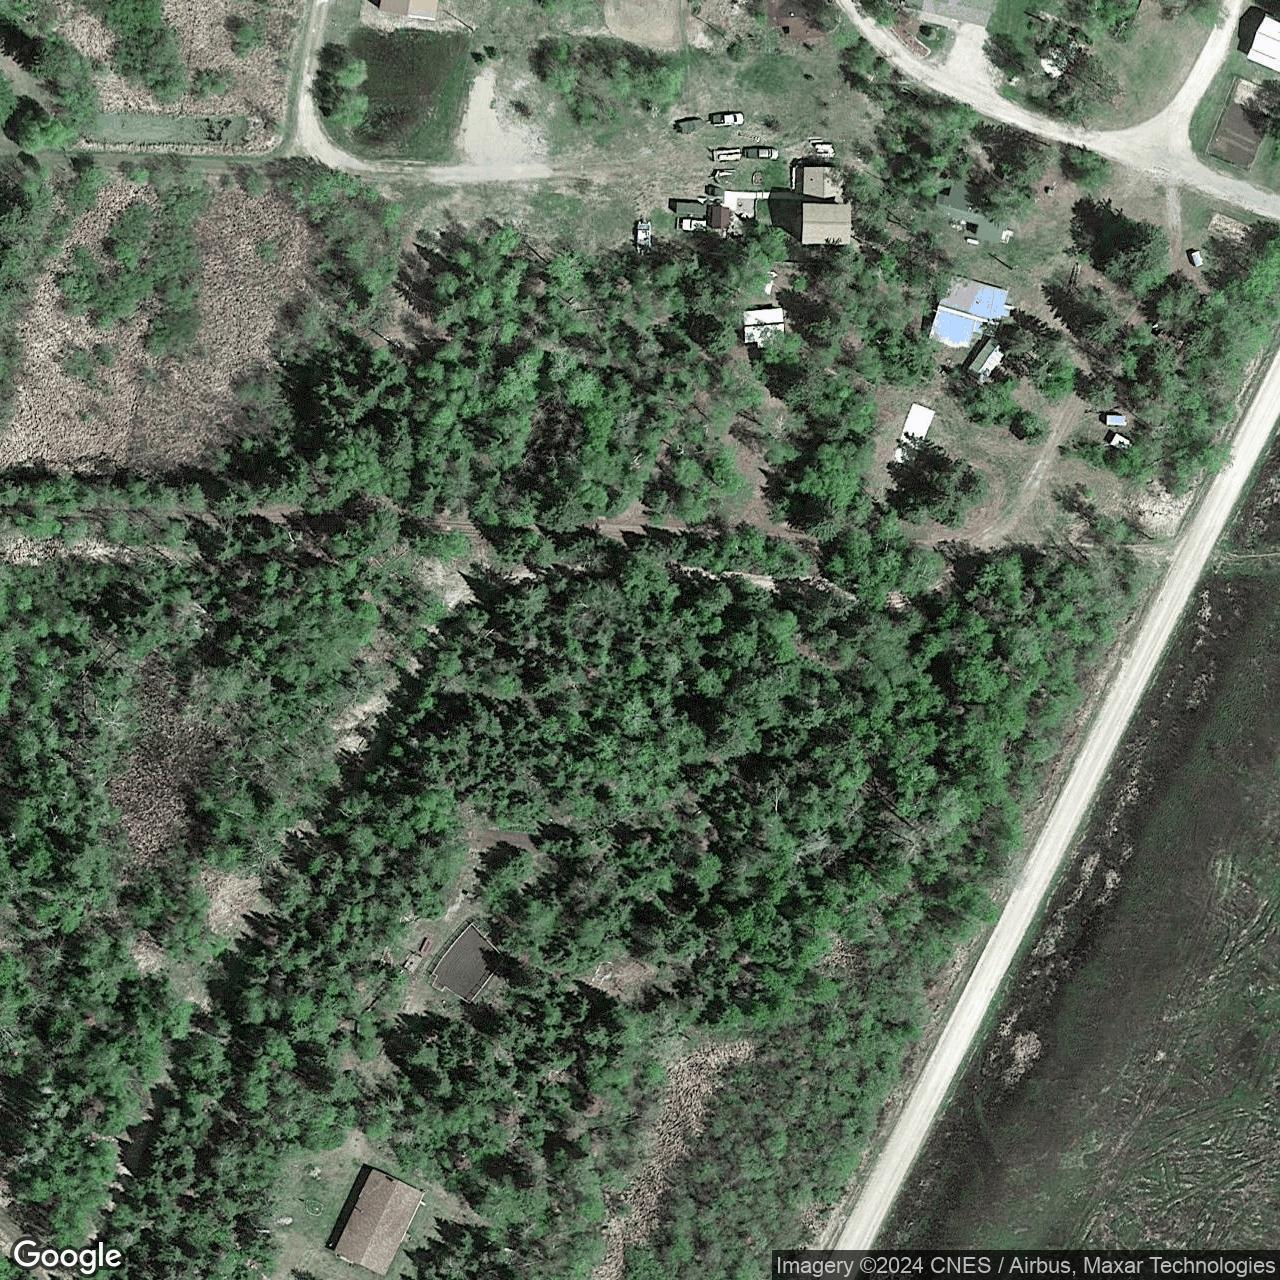Garage: (927, 272, 1012, 348), (743, 307, 784, 348)
House: (334, 1167, 423, 1276), (934, 183, 1007, 243), (802, 166, 851, 246), (1246, 15, 1280, 74), (377, 0, 438, 22)
Propane: (964, 236, 980, 247)
